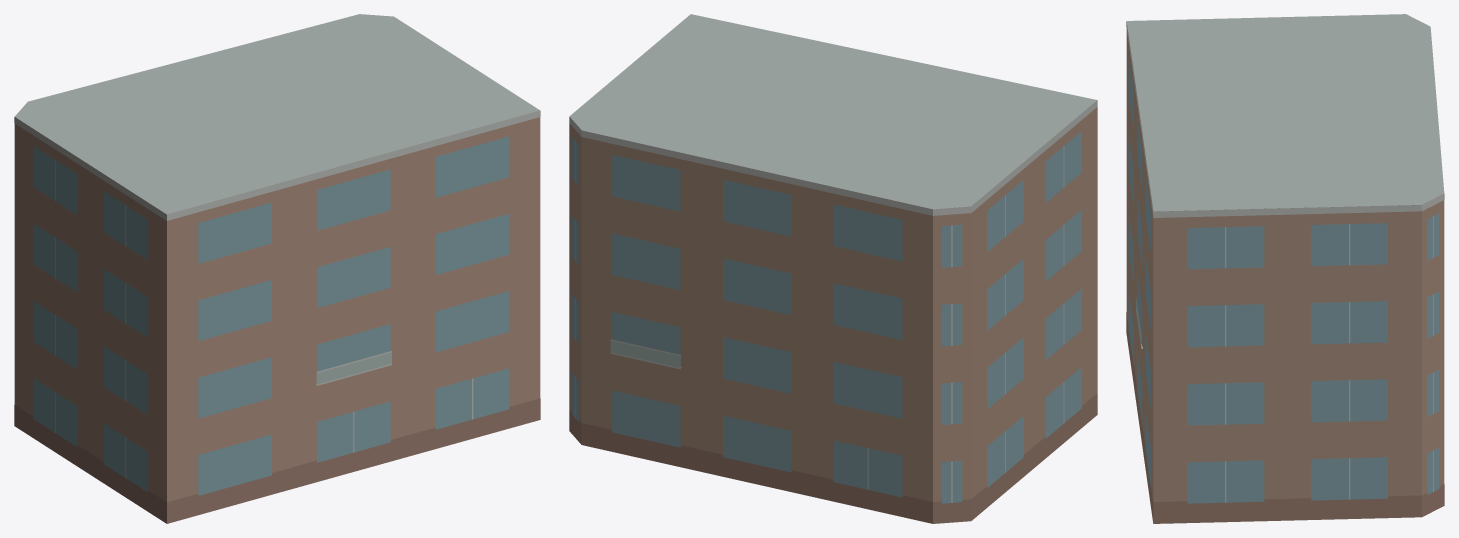
Rendered from survey-upis-32698009.glb.
3 views of the same model, side by side, from view 1: azimuth 30°, elevation 25°; view 2: azimuth 150°, elevation 25°; view 3: azimuth 270°, elevation 25° (orthographic).
Parts seen in each view (by area): view 1: survey-upis-32698009.tmp; view 2: survey-upis-32698009.tmp; view 3: survey-upis-32698009.tmp.
Part boxes in pixels (x1,y1,x2,y2): survey-upis-32698009.tmp: [14, 14, 540, 523]; survey-upis-32698009.tmp: [569, 14, 1097, 523]; survey-upis-32698009.tmp: [1126, 14, 1444, 523].
Bounding box in the file's own units: 15.88 × 11.7 × 10.8.
